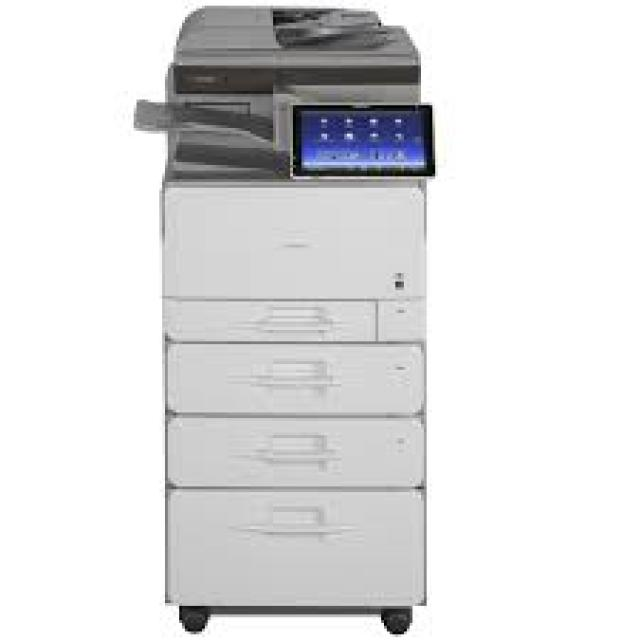printer: (131, 3, 435, 179)
